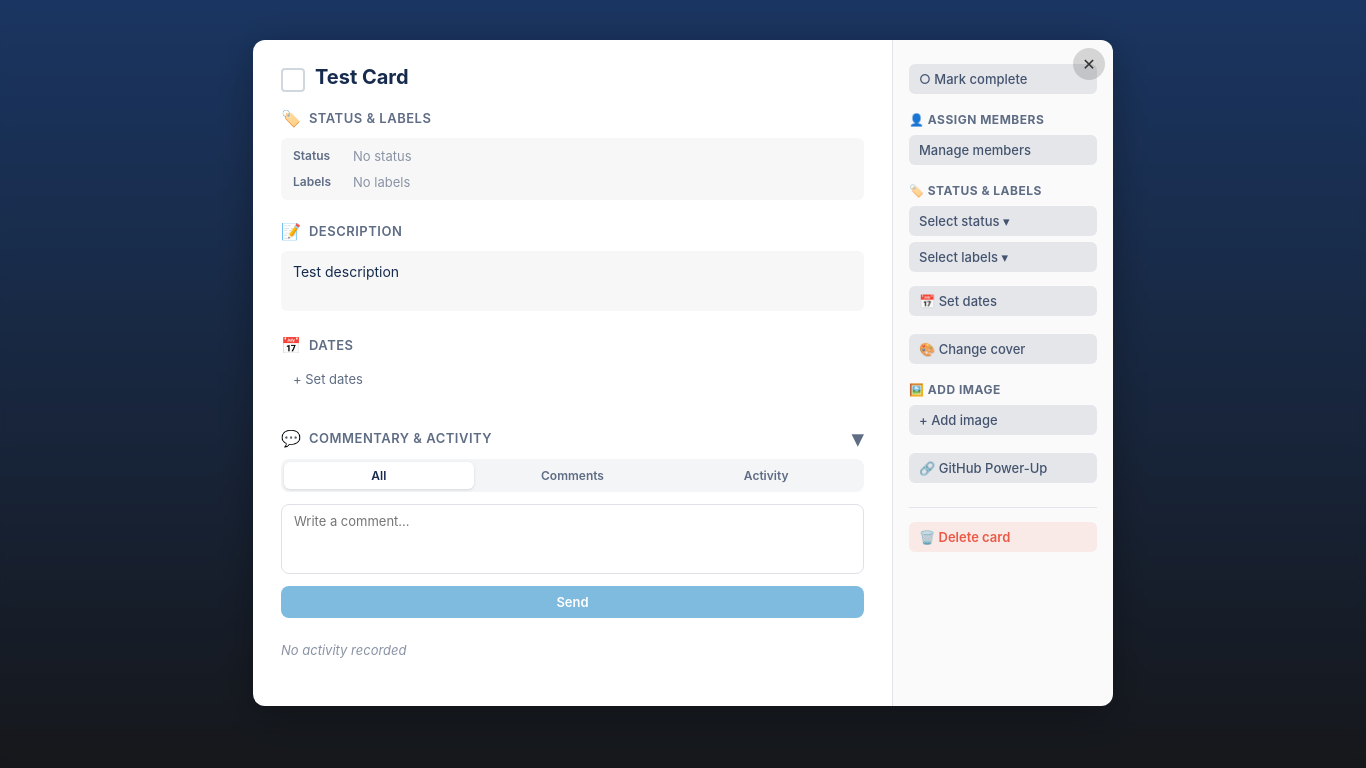
Test: CardDetailModal › cancels title editing on Escape key
The image size is (1366, 768).
Click the heading "Test Card": [362, 77] box [315,65,409,89]
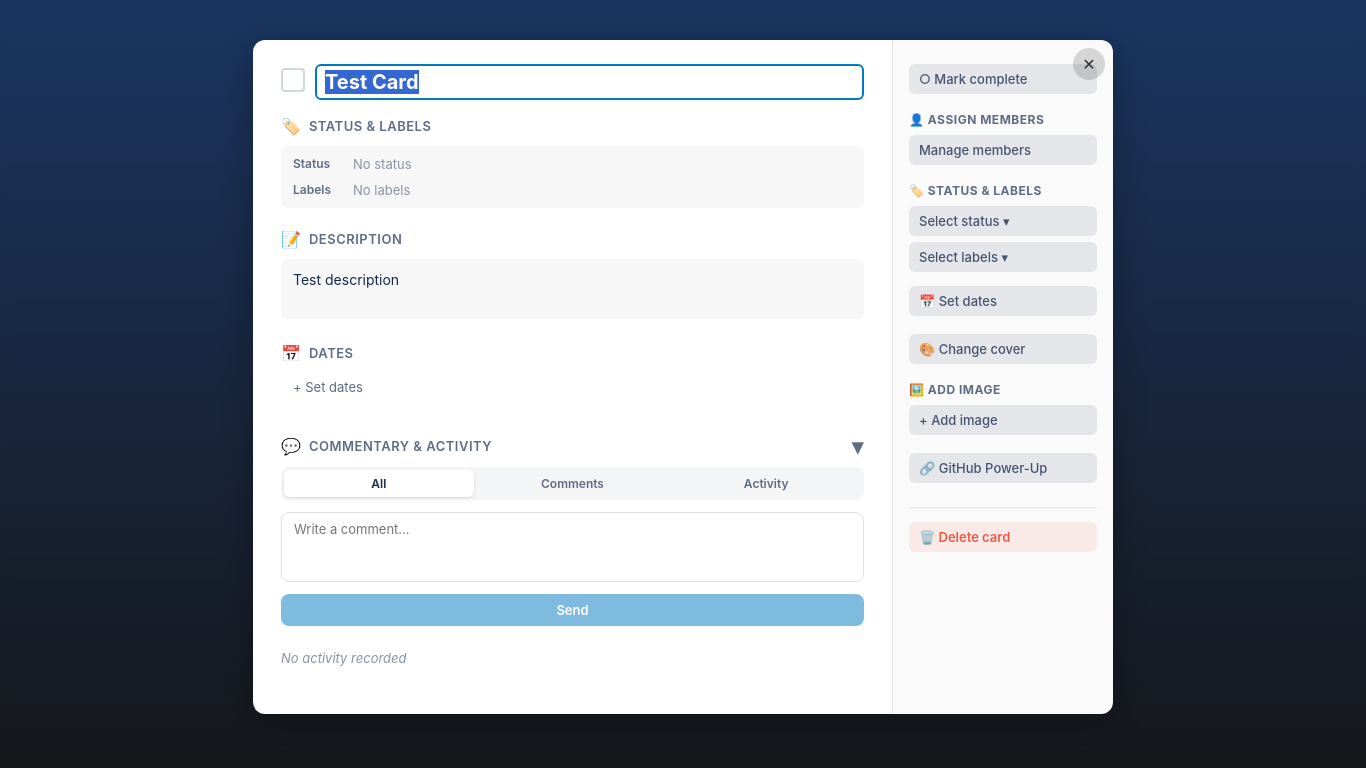
Replace the text in the field showing "Test Card" with "Changed": [590, 82] box [315,64,864,100]
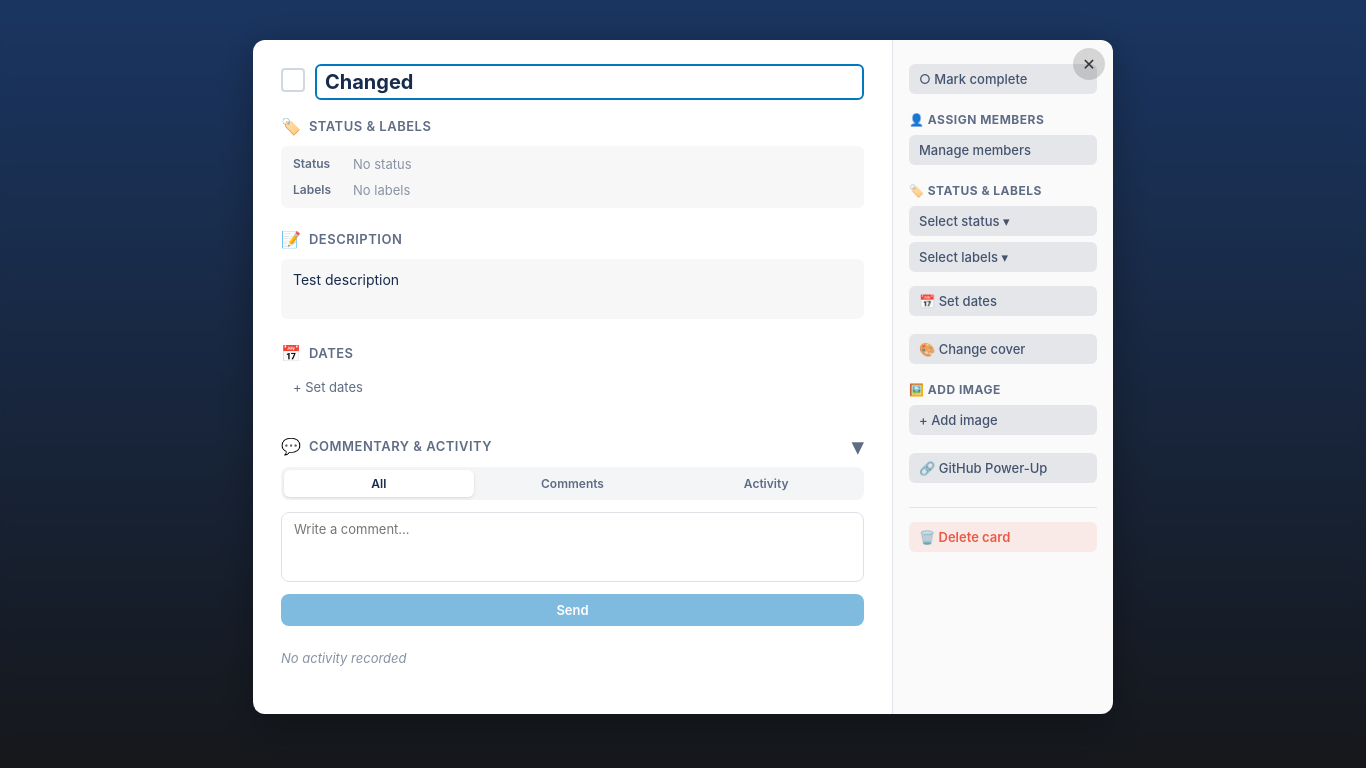
Press Escape in the field showing "Test Card", box [315,64,864,100]
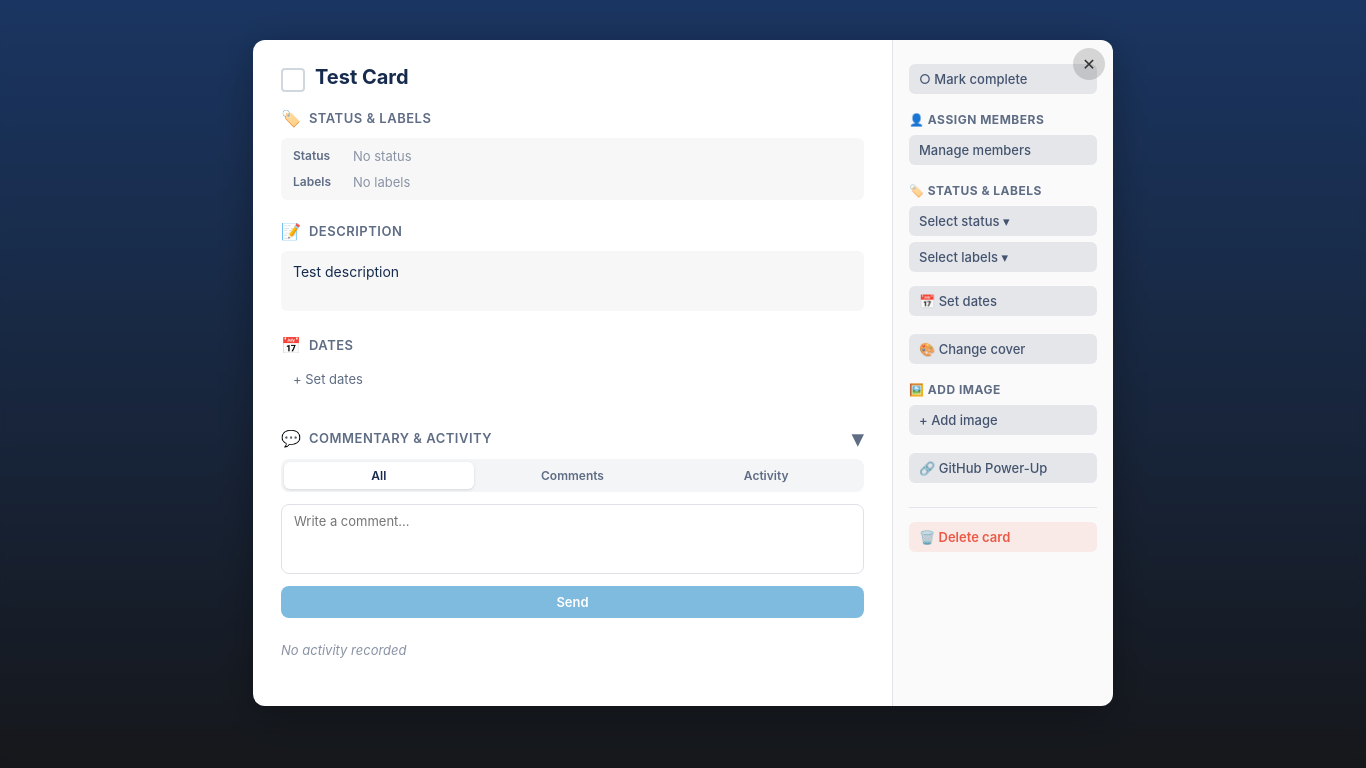
Expected: the heading "Test Card" is shown, [315,65,409,89]
